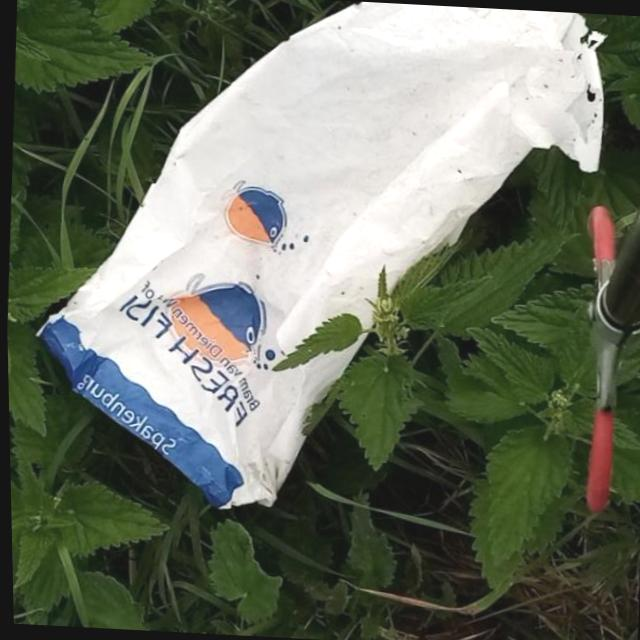Paper: (11, 0, 620, 534)
